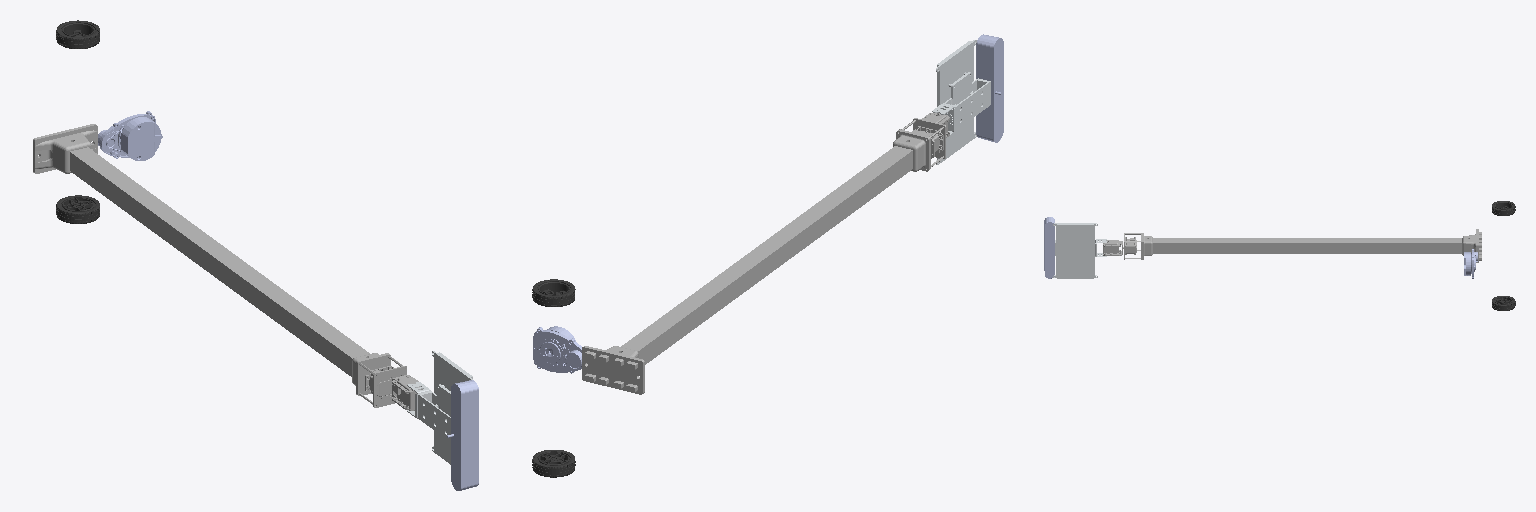
The robot description file, URDF, robot "oro_new_origin":
<?xml version="1.0" encoding="utf-8"?>
<!-- This URDF was automatically created by SolidWorks to URDF Exporter! Originally created by [author] ([email redacted]) 
     Commit Version: 1.5.1-0-g916b5db  Build Version: 1.5.7152.31018
     For more information, please see http://wiki.ros.org/sw_urdf_exporter -->
<robot
  name="oro_new_origin">
  <link
    name="base_link">
    <inertial>
      <origin
        xyz="-0.0565332553903245 -0.01818707363211 -0.000350515629258258"
        rpy="0 0 0" />
      <mass
        value="1.32433600289922" />
      <inertia
        ixx="0.00135553657024013"
        ixy="-5.02179862659454E-08"
        ixz="-1.92790642264766E-07"
        iyy="0.00194080698723538"
        iyz="-1.28466065345713E-06"
        izz="0.000617550917743685" />
    </inertial>
    <visual>
      <origin
        xyz="0 0 0"
        rpy="0 0 0" />
      <geometry>
        <mesh
          filename="package://oro_new_origin/meshes/base_link.STL" />
      </geometry>
      <material
        name="">
        <color
          rgba="0.752941176470588 0.752941176470588 0.752941176470588 1" />
      </material>
    </visual>
    <collision>
      <origin
        xyz="0 0 0"
        rpy="0 0 0" />
      <geometry>
        <mesh
          filename="package://oro_new_origin/meshes/base_link.STL" />
      </geometry>
    </collision>
  </link>
  <link
    name="wheel_left">
    <inertial>
      <origin
        xyz="-0.191373146208563 0.191627979962553 -0.0102248565002972"
        rpy="0 0 0" />
      <mass
        value="2.93317977791768" />
      <inertia
        ixx="0.591677105407078"
        ixy="0.00508189072575185"
        ixz="0.000218459631374334"
        iyy="0.0177051658578186"
        iyz="0.000417347096482886"
        izz="0.590430124482806" />
    </inertial>
    <visual>
      <origin
        xyz="0 0 0"
        rpy="0 0 0" />
      <geometry>
        <mesh
          filename="package://oro_new_origin/meshes/wheel_left.STL" />
      </geometry>
      <material
        name="">
        <color
          rgba="0.298039215686275 0.298039215686275 0.298039215686275 1" />
      </material>
    </visual>
    <collision>
      <origin
        xyz="0 0 0"
        rpy="0 0 0" />
      <geometry>
        <mesh
          filename="package://oro_new_origin/meshes/wheel_left.STL" />
      </geometry>
    </collision>
  </link>
  <joint
    name="wheel_left_joint"
    type="continuous">
    <origin
      xyz="-0.242519526797119 -0.170162162680993 -0.018480323531233"
      rpy="0 0.149555140664513 3.13449781269223" />
    <parent
      link="base_link" />
    <child
      link="wheel_left" />
    <axis
      xyz="0 1 0" />
  </joint>
  <link
    name="wheel_right">
    <inertial>
      <origin
        xyz="0.180128460968119 -0.461421788743113 -0.065436735321014"
        rpy="0 0 0" />
      <mass
        value="2.93317977791768" />
      <inertia
        ixx="0.591450075310868"
        ixy="0.00474088100537843"
        ixz="-0.000528473410083437"
        iyy="0.0177051658578186"
        iyz="-0.00187718918606179"
        izz="0.590657154579016" />
    </inertial>
    <visual>
      <origin
        xyz="0 0 0"
        rpy="0 0 0" />
      <geometry>
        <mesh
          filename="package://oro_new_origin/meshes/wheel_right.STL" />
      </geometry>
      <material
        name="">
        <color
          rgba="0.298039215686275 0.298039215686275 0.298039215686275 1" />
      </material>
    </visual>
    <collision>
      <origin
        xyz="0 0 0"
        rpy="0 0 0" />
      <geometry>
        <mesh
          filename="package://oro_new_origin/meshes/wheel_right.STL" />
      </geometry>
    </collision>
  </link>
  <joint
    name="wheel_right_joint"
    type="continuous">
    <origin
      xyz="-0.24060539870727 0.0996248558539564 -0.018480323531233"
      rpy="0 -0.444631589877229 -0.00709484089756432" />
    <parent
      link="base_link" />
    <child
      link="wheel_right" />
    <axis
      xyz="0 1 0" />
  </joint>
  <link
    name="base_scan">
    <inertial>
      <origin
        xyz="0.339117296317171 -0.0694870732556561 0.0489134189395805"
        rpy="0 0 0" />
      <mass
        value="0.0530538694104073" />
      <inertia
        ixx="1.80721201932064E-05"
        ixy="2.63817129316487E-08"
        ixz="-4.80233485928702E-06"
        iyy="3.5722095781217E-05"
        iyz="1.90623882780558E-08"
        izz="4.46705826810891E-05" />
    </inertial>
    <visual>
      <origin
        xyz="0 0 0"
        rpy="0 0 0" />
      <geometry>
        <mesh
          filename="package://oro_new_origin/meshes/base_scan.STL" />
      </geometry>
      <material
        name="">
        <color
          rgba="0.792156862745098 0.819607843137255 0.933333333333333 1" />
      </material>
    </visual>
    <collision>
      <origin
        xyz="0 0 0"
        rpy="0 0 0" />
      <geometry>
        <mesh
          filename="package://oro_new_origin/meshes/base_scan.STL" />
      </geometry>
    </collision>
  </link>
  <joint
    name="base_scan_joint"
    type="fixed">
    <origin
      xyz="-0.29299616822181 -0.034903733333453 0.069469676468767"
      rpy="1.5707963267949 0 -0.00709484089756434" />
    <parent
      link="base_link" />
    <child
      link="base_scan" />
    <axis
      xyz="0 0 0" />
  </joint>
  <link
    name="neck">
    <inertial>
      <origin
        xyz="0.052622236352891 -0.294270662722272 -0.978909826024226"
        rpy="0 0 0" />
      <mass
        value="1.10926754952808" />
      <inertia
        ixx="0.0564227541638391"
        ixy="0.000397725514912617"
        ixz="-9.04251073112561E-10"
        iyy="0.000393891974635777"
        iyz="3.53923737916946E-11"
        izz="0.0564818854150741" />
    </inertial>
    <visual>
      <origin
        xyz="0 0 0"
        rpy="0 0 0" />
      <geometry>
        <mesh
          filename="package://oro_new_origin/meshes/neck.STL" />
      </geometry>
      <material
        name="">
        <color
          rgba="0.752941176470588 0.752941176470588 0.752941176470588 1" />
      </material>
    </visual>
    <collision>
      <origin
        xyz="0 0 0"
        rpy="0 0 0" />
      <geometry>
        <mesh
          filename="package://oro_new_origin/meshes/neck.STL" />
      </geometry>
    </collision>
  </link>
  <joint
    name="neck_joint"
    type="fixed">
    <origin
      xyz="-0.111522868965688 -0.223111765630108 0.978912848528942"
      rpy="0 0 -0.00709484089756157" />
    <parent
      link="base_link" />
    <child
      link="neck" />
    <axis
      xyz="0 0 0" />
  </joint>
  <link
    name="pan">
    <inertial>
      <origin
        xyz="0.15751717603195 -1.03659644168177 -1.02811349063567"
        rpy="0 0 0" />
      <mass
        value="0.0446711229185333" />
      <inertia
        ixx="1.241695503459E-05"
        ixy="7.04455595291662E-08"
        ixz="2.67966548083652E-09"
        iyy="7.78189155207254E-06"
        iyz="-1.82730204528818E-07"
        izz="1.04151202907412E-05" />
    </inertial>
    <visual>
      <origin
        xyz="0 0 0"
        rpy="0 0 0" />
      <geometry>
        <mesh
          filename="package://oro_new_origin/meshes/pan.STL" />
      </geometry>
      <material
        name="">
        <color
          rgba="0.752941176470588 0.752941176470588 0.752941176470588 1" />
      </material>
    </visual>
    <collision>
      <origin
        xyz="0 0 0"
        rpy="0 0 0" />
      <geometry>
        <mesh
          filename="package://oro_new_origin/meshes/pan.STL" />
      </geometry>
    </collision>
  </link>
  <joint
    name="pan_joint"
    type="continuous">
    <origin
      xyz="-0.0803690267279755 0.186890382040786 0.0492568279398251"
      rpy="0 0 -0.00757105682660417" />
    <parent
      link="neck" />
    <child
      link="pan" />
    <axis
      xyz="0 0 1" />
  </joint>
  <link
    name="tilt">
    <inertial>
      <origin
        xyz="1.13505010487561 -0.157246322316439 1.0714547106689"
        rpy="0 0 0" />
      <mass
        value="0.190333592269604" />
      <inertia
        ixx="0.000309952592690081"
        ixy="2.6016464347998E-06"
        ixz="5.81043779152446E-09"
        iyy="0.000483708672807067"
        iyz="-5.91087992609485E-06"
        izz="0.000184246016919108" />
    </inertial>
    <visual>
      <origin
        xyz="0 0 0"
        rpy="0 0 0" />
      <geometry>
        <mesh
          filename="package://oro_new_origin/meshes/tilt.STL" />
      </geometry>
      <material
        name="">
        <color
          rgba="0.894117647058823 0.913725490196078 0.929411764705882 1" />
      </material>
    </visual>
    <collision>
      <origin
        xyz="0 0 0"
        rpy="0 0 0" />
      <geometry>
        <mesh
          filename="package://oro_new_origin/meshes/tilt.STL" />
      </geometry>
    </collision>
  </link>
  <joint
    name="tilt_joint"
    type="continuous">
    <origin
      xyz="0.000250000000001249 0 0.0420800000000014"
      rpy="-3.12696731241166 0 -1.5707963267949" />
    <parent
      link="pan" />
    <child
      link="tilt" />
    <axis
      xyz="1 0 0" />
  </joint>
  <link
    name="depth_cam">
    <inertial>
      <origin
        xyz="1.11904835568739 -1.07242829067043 -0.142861258716231"
        rpy="0 0 0" />
      <mass
        value="0.153126621719674" />
      <inertia
        ixx="0.000377926901789772"
        ixy="-4.10910927962612E-10"
        ixz="-2.82294853200096E-08"
        iyy="2.30115750503474E-05"
        iyz="5.16071759213032E-06"
        izz="0.000375772291042933" />
    </inertial>
    <visual>
      <origin
        xyz="0 0 0"
        rpy="0 0 0" />
      <geometry>
        <mesh
          filename="package://oro_new_origin/meshes/depth_cam.STL" />
      </geometry>
      <material
        name="">
        <color
          rgba="0.792156862745098 0.819607843137255 0.933333333333333 1" />
      </material>
    </visual>
    <collision>
      <origin
        xyz="0 0 0"
        rpy="0 0 0" />
      <geometry>
        <mesh
          filename="package://oro_new_origin/meshes/depth_cam.STL" />
      </geometry>
    </collision>
  </link>
  <joint
    name="depth_cam_joint"
    type="fixed">
    <origin
      xyz="0.0874623622012928 0 0"
      rpy="-1.57079632679489 0 0" />
    <parent
      link="tilt" />
    <child
      link="depth_cam" />
    <axis
      xyz="0 0 0" />
  </joint>
</robot>

--- Render facts (derived) ---
3 views of the same robot in one strip: view 1: azimuth 30°, elevation 25°; view 2: azimuth 150°, elevation 25°; view 3: azimuth 270°, elevation 25° (orthographic).
Robot: oro_new_origin — 8 links, 7 joints (4 continuous, 3 fixed); root link base_link; default pose: every joint at zero.
Links seen in each view (by area): view 1: neck, depth_cam, tilt, base_scan, wheel_right, wheel_left, pan; view 2: neck, tilt, depth_cam, base_scan, wheel_right, wheel_left; view 3: neck, tilt, depth_cam.
Link boxes in pixels (x1,y1,x2,y2): neck: [33, 124, 406, 407]; depth_cam: [447, 380, 478, 490]; tilt: [407, 351, 472, 464]; base_scan: [98, 111, 162, 160]; wheel_right: [56, 195, 99, 223]; wheel_left: [56, 20, 99, 48]; pan: [392, 375, 422, 410]; neck: [582, 118, 945, 394]; tilt: [932, 40, 990, 164]; depth_cam: [976, 34, 1003, 142]; base_scan: [533, 326, 581, 373]; wheel_right: [532, 450, 575, 477]; wheel_left: [532, 279, 575, 306]; neck: [1123, 229, 1481, 262]; tilt: [1053, 223, 1106, 278]; depth_cam: [1044, 217, 1054, 278].
Size in the robot's own frame: 0.2023 by 1.29 by 0.3062 metres.
7 mesh visuals loaded from 8 distinct referenced files (7 binary STL); not drawn: 1 (reference not matched to a file when rendering).